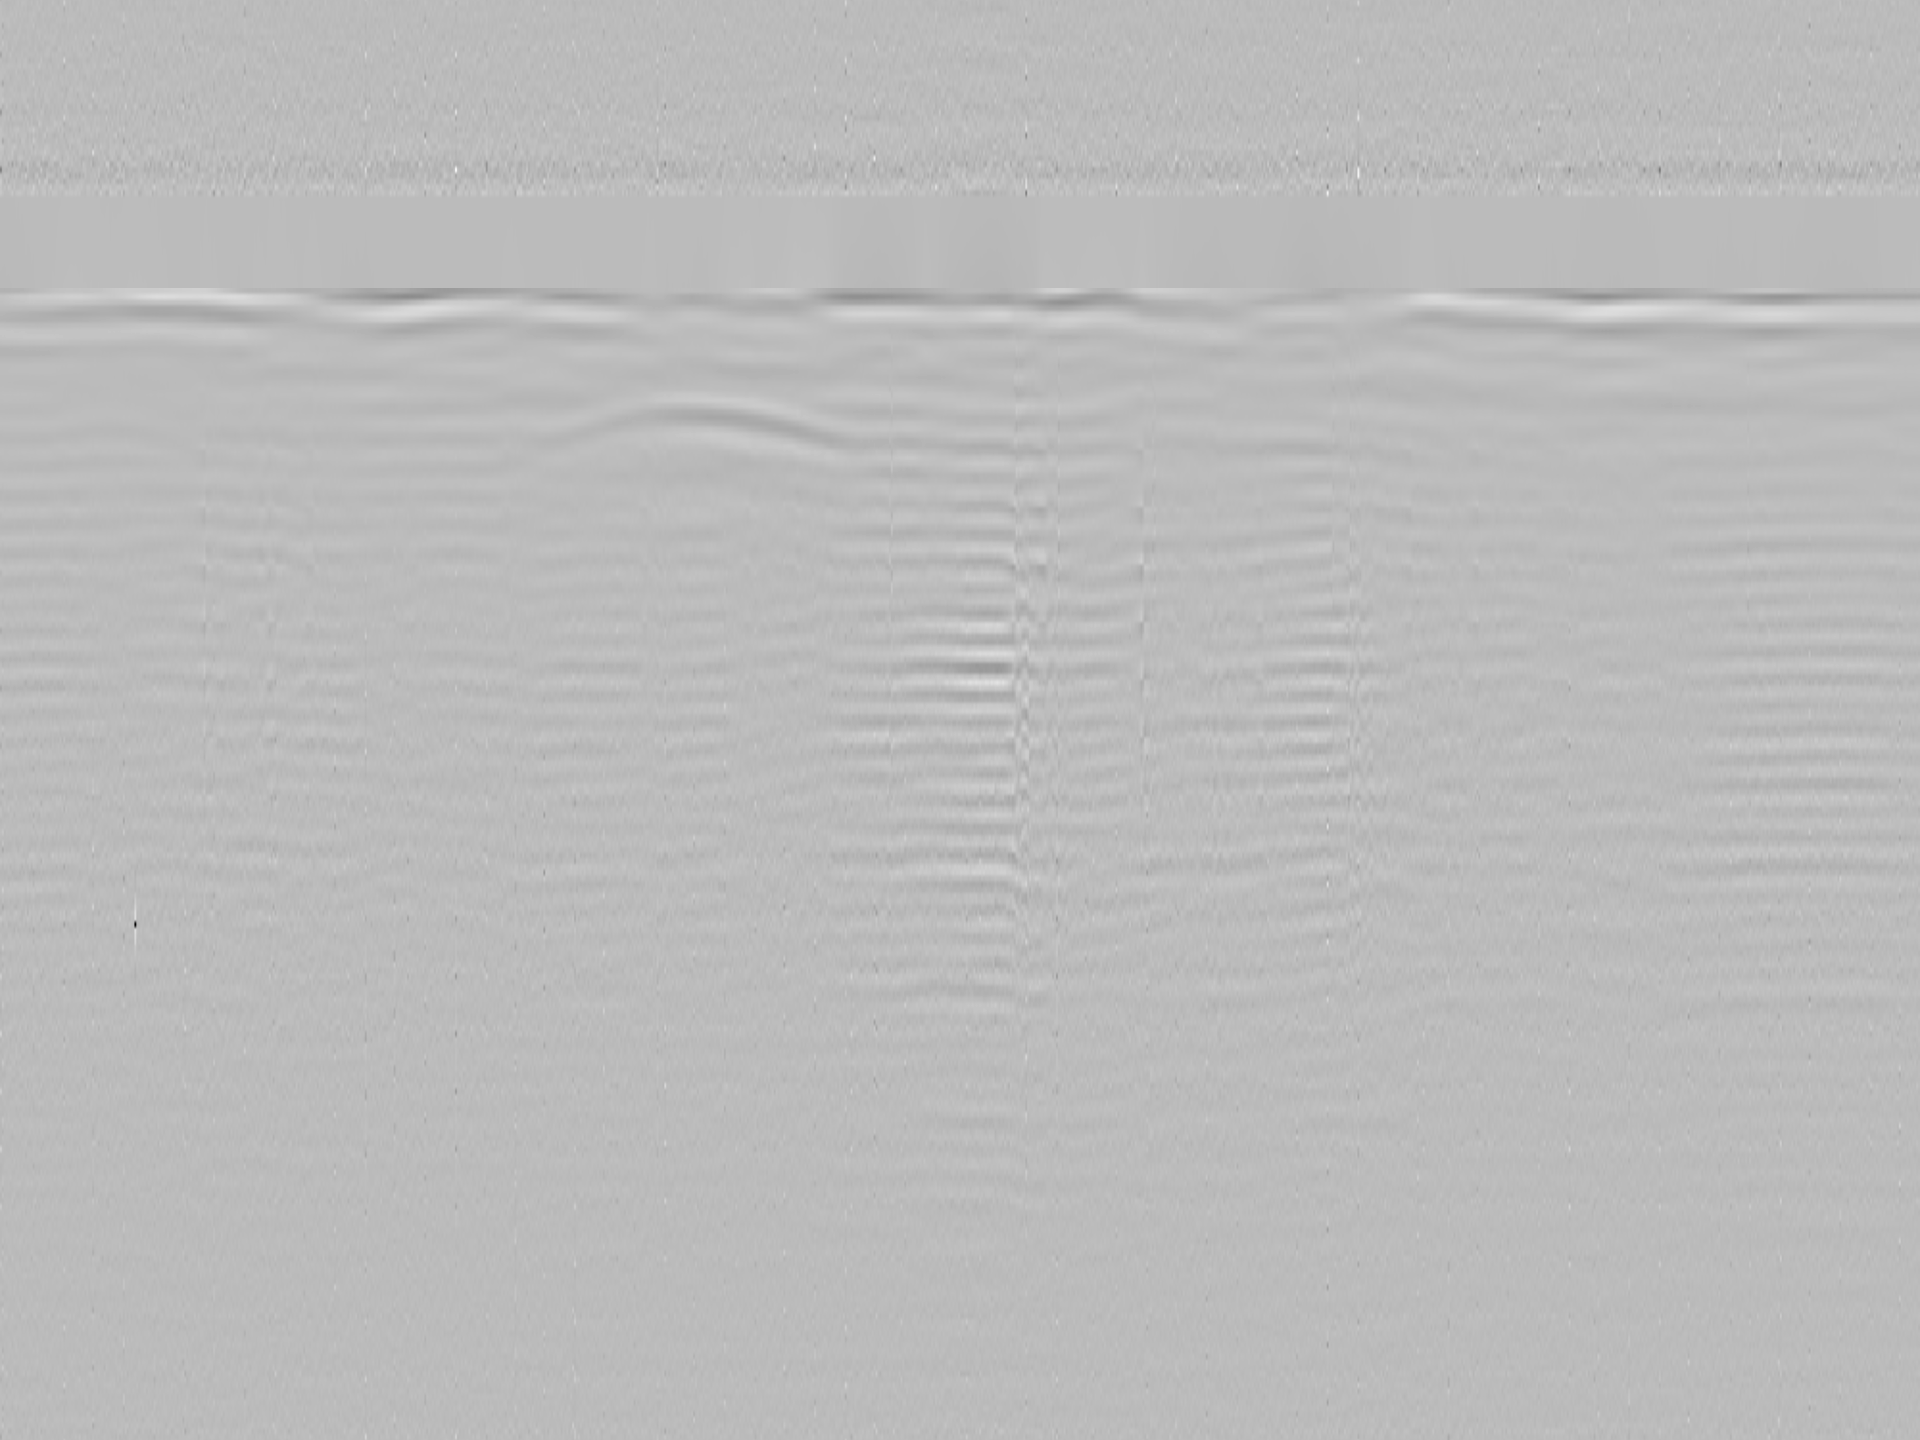Tunnel: (531, 395, 878, 469)
